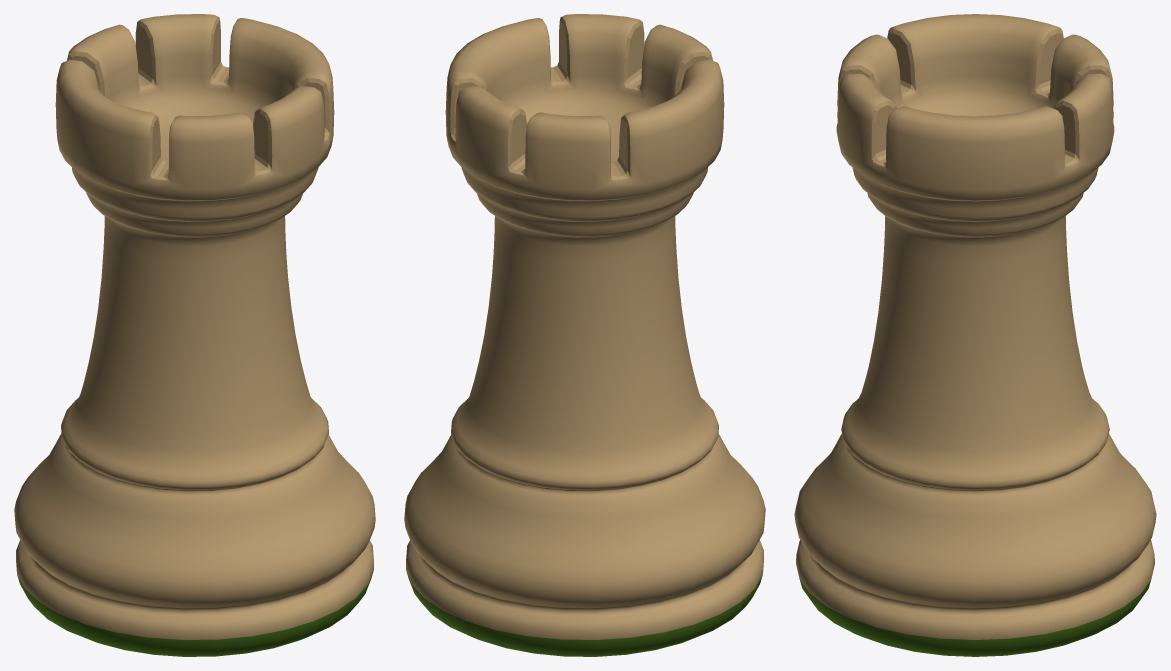
The model's file is whitecastle.glb.
3 renders of one model, left to right at view 1: azimuth 30°, elevation 25°; view 2: azimuth 150°, elevation 25°; view 3: azimuth 270°, elevation 25°, orthographic.
Visible parts, largest first — view 1: whitecastle; view 2: whitecastle; view 3: whitecastle.
Boxes of the visible parts, <box> form: whitecastle: <box>14,14,375,656</box>; whitecastle: <box>404,14,765,656</box>; whitecastle: <box>794,14,1156,656</box>.
Bounding box in the file's own units: 0.5778 × 0.9455 × 0.5778.
